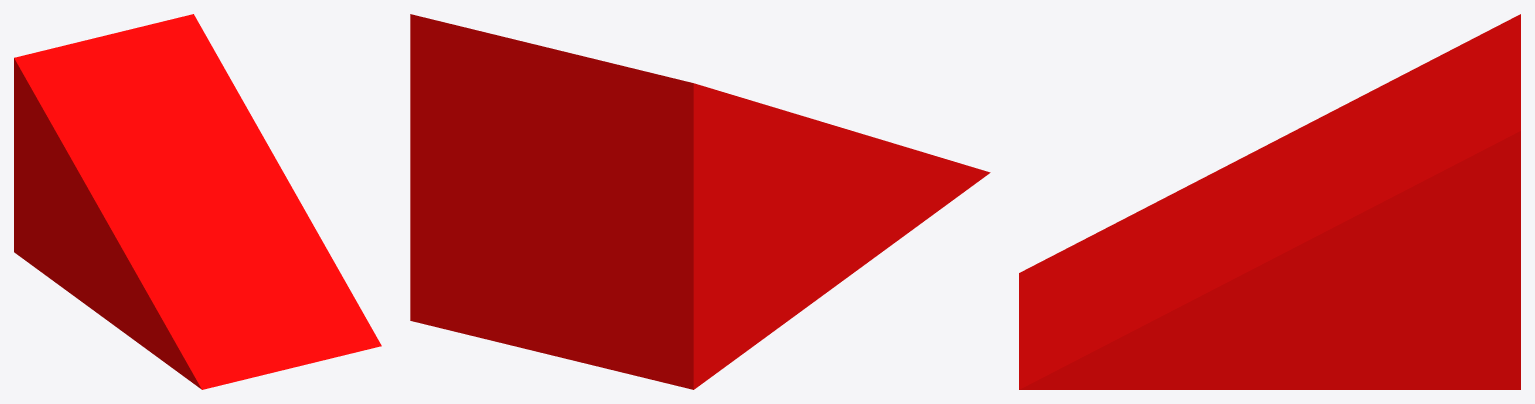
The model's file is BaseRamp.001.glb.
The picture shows the model from 3 angles, left to right: view 1: azimuth 30°, elevation 25°; view 2: azimuth 150°, elevation 25°; view 3: azimuth 270°, elevation 25°; orthographic projection. The views are drawn at different scales.
Visible parts, largest first — view 1: BaseRamp.001; view 2: BaseRamp.001; view 3: BaseRamp.001.
Part boxes in pixels (box(x1,y1,x2,y2)): BaseRamp.001: box(14, 14, 381, 389); BaseRamp.001: box(410, 14, 990, 389); BaseRamp.001: box(1019, 14, 1520, 389).
Size of what is drawn, in the model's own units: 1.85 by 1.91 by 3.35.
Materials: 1 (1 with a texture image).
